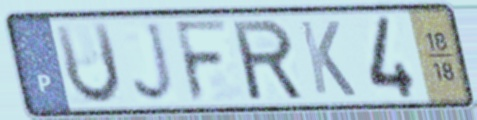4: (367, 12, 421, 102)
F: (170, 16, 233, 106)
J: (130, 19, 179, 106)
K: (296, 18, 360, 99)
R: (227, 16, 308, 104)
U: (50, 18, 125, 108)
